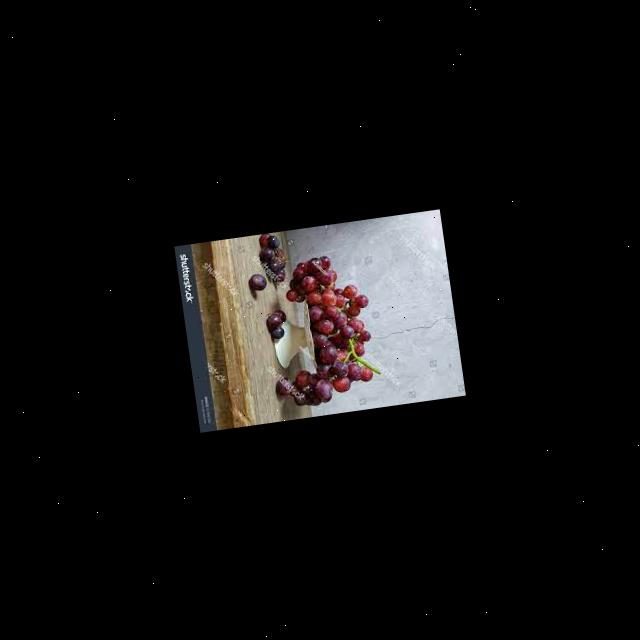grape: (272, 250, 381, 409)
